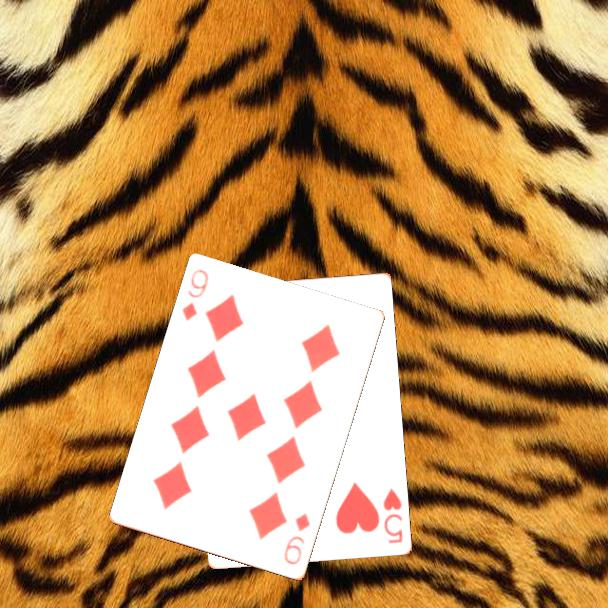d09: (280, 510, 313, 568), (179, 266, 212, 324)
h05: (380, 485, 405, 546)
